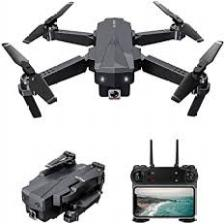drone: (0, 0, 224, 134)
